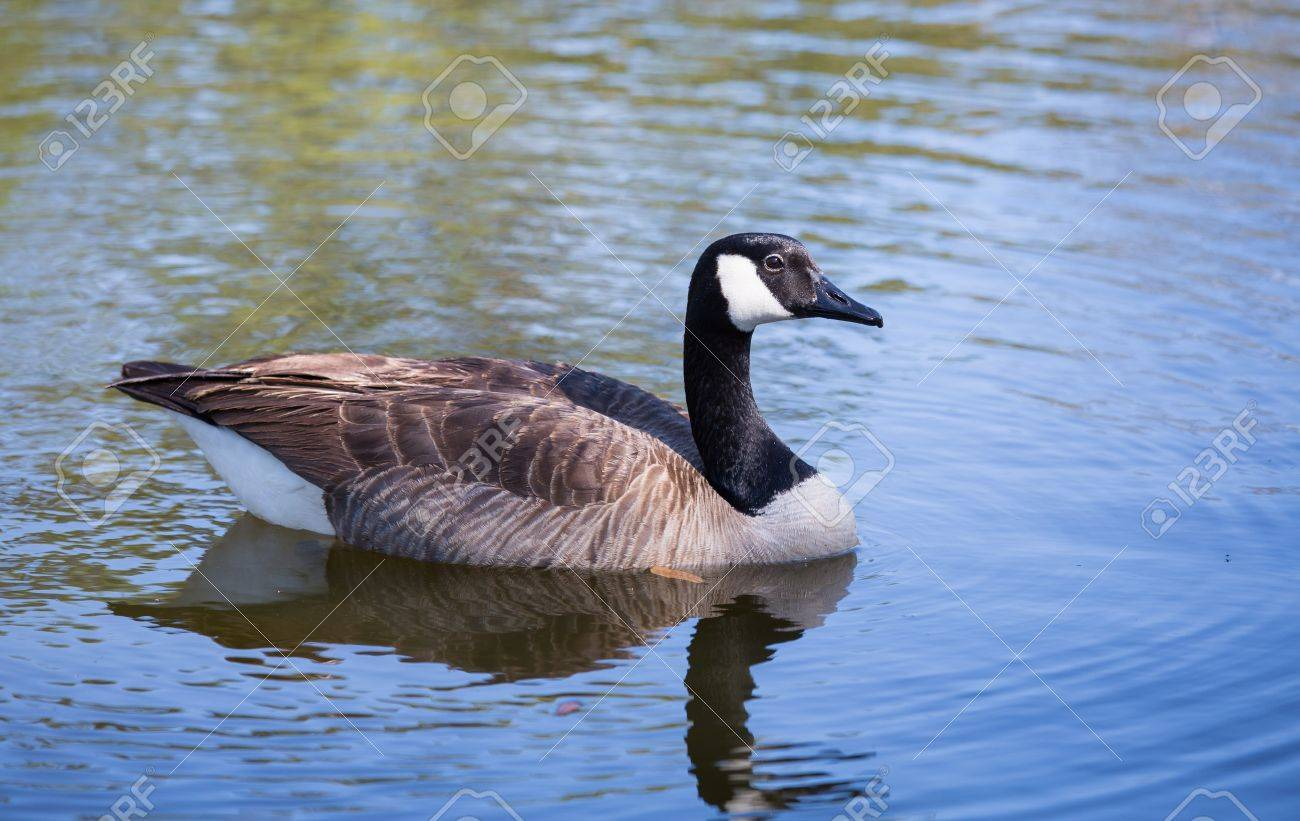goose: (106, 227, 890, 579)
